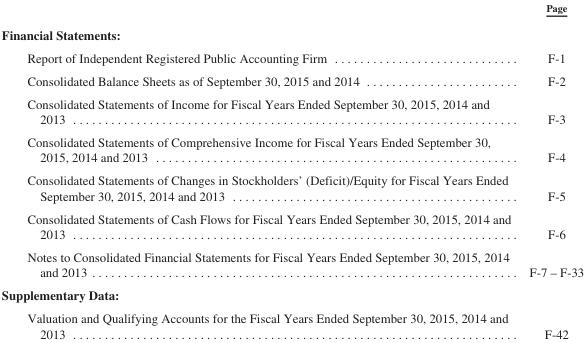table: (0, 1, 583, 340)
table column: (0, 1, 519, 340), (519, 1, 583, 340)
table column header: (0, 1, 583, 19)
table projected row header: (0, 19, 583, 45), (0, 283, 583, 306)
table row: (0, 91, 583, 130), (0, 206, 583, 245), (0, 130, 583, 168), (0, 168, 583, 206), (0, 245, 583, 283), (0, 306, 583, 340), (0, 19, 583, 45), (0, 45, 583, 68), (0, 68, 583, 91), (0, 283, 583, 306), (0, 1, 583, 19)
